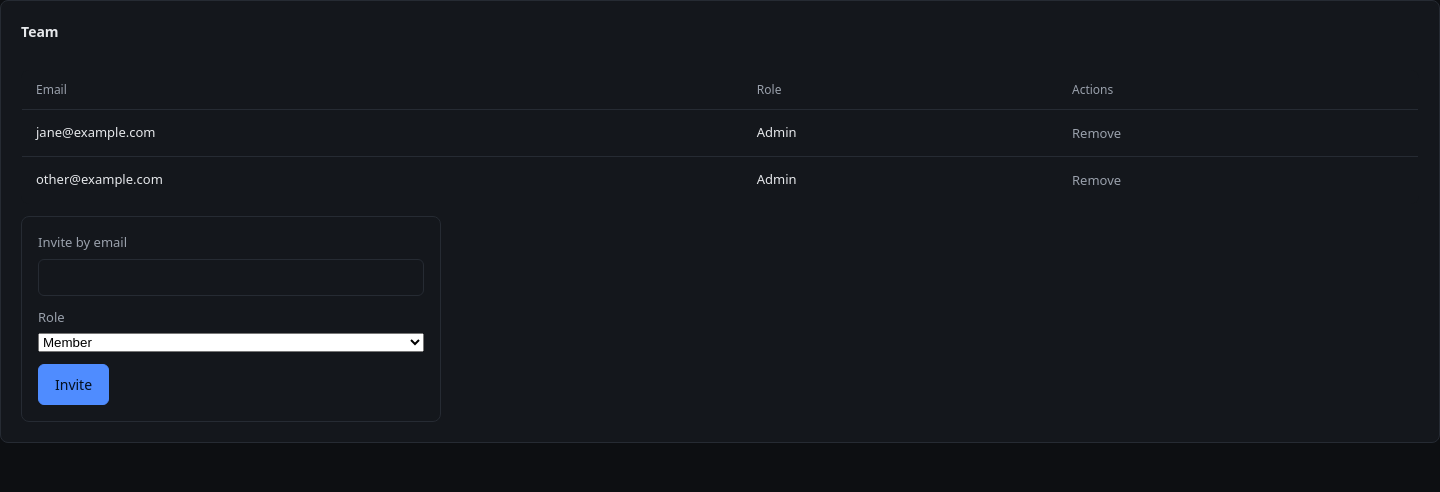
Test: OrgMembersPanel › removing a member › shows the backend's error message when removal is rejected
The image size is (1440, 492).
Click the button "Remove" in the row of "jane@example.com". click: (1097, 133)
box: x1=1072 y1=120 x2=1121 y2=146
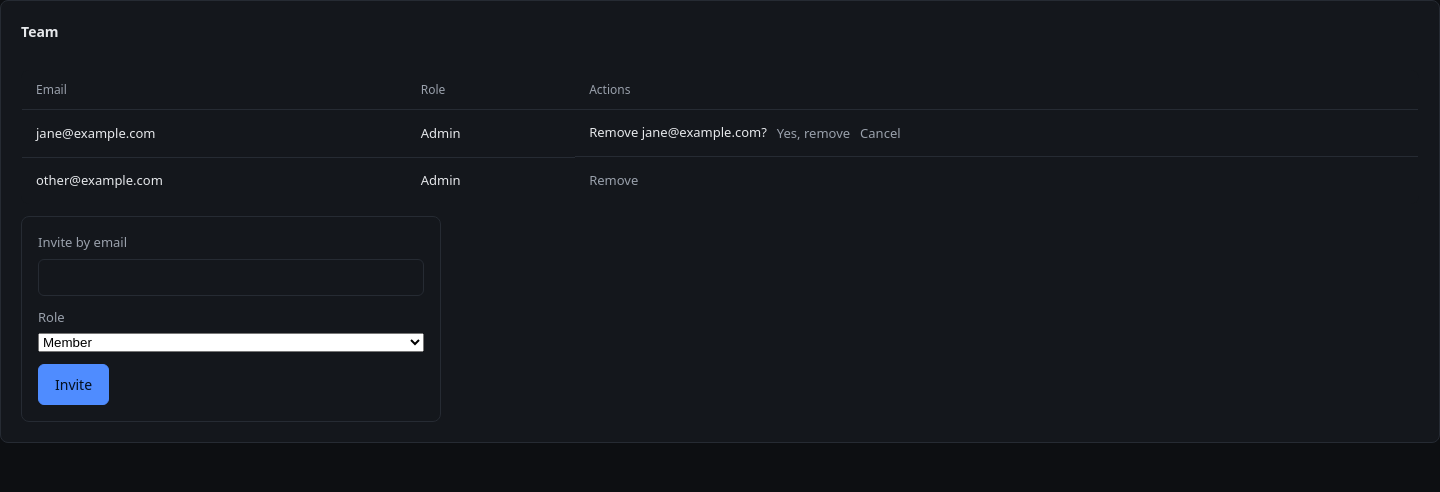
Click the button "Yes, remove". click: (813, 133)
box: x1=777 y1=120 x2=850 y2=146
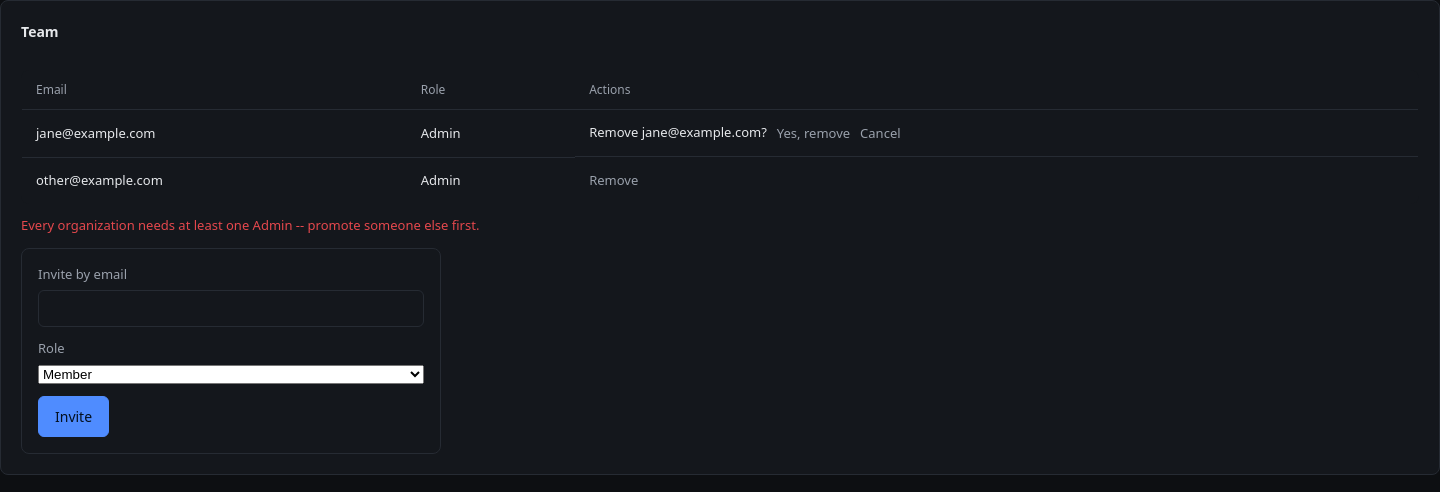
Expected: the text "Every organization needs at least one Admin -- promote someone else first." is shown, x1=21 y1=216 x2=479 y2=234
